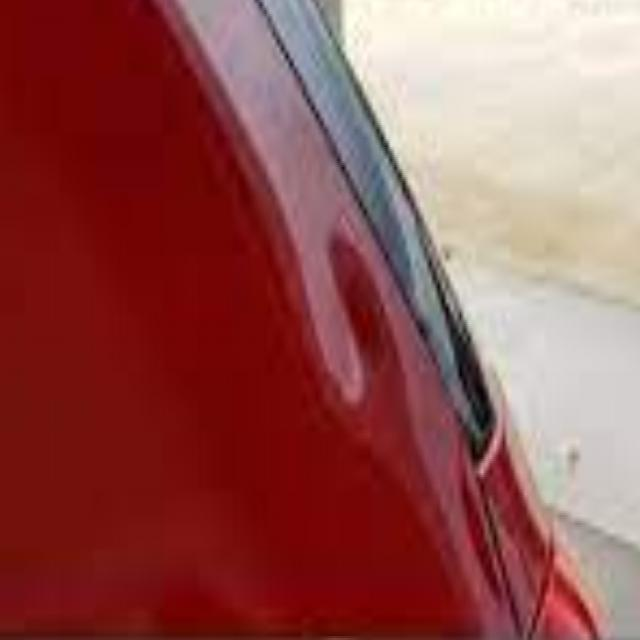dents: (294, 200, 422, 443)
